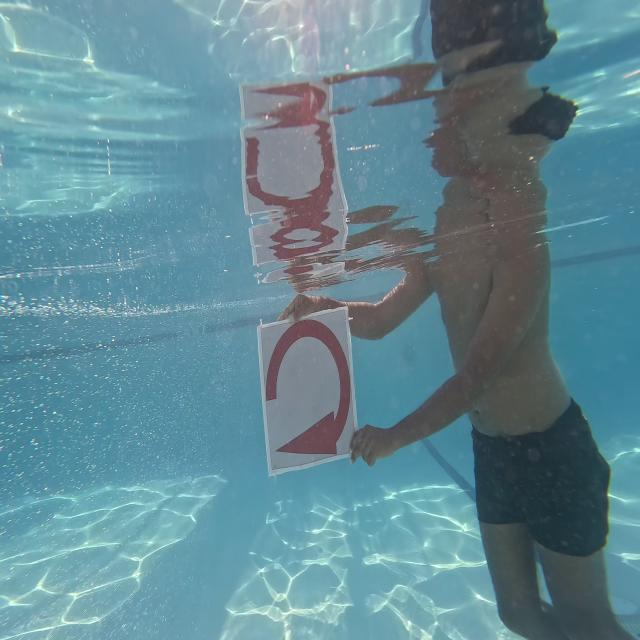red_side: (255, 313, 361, 474)
